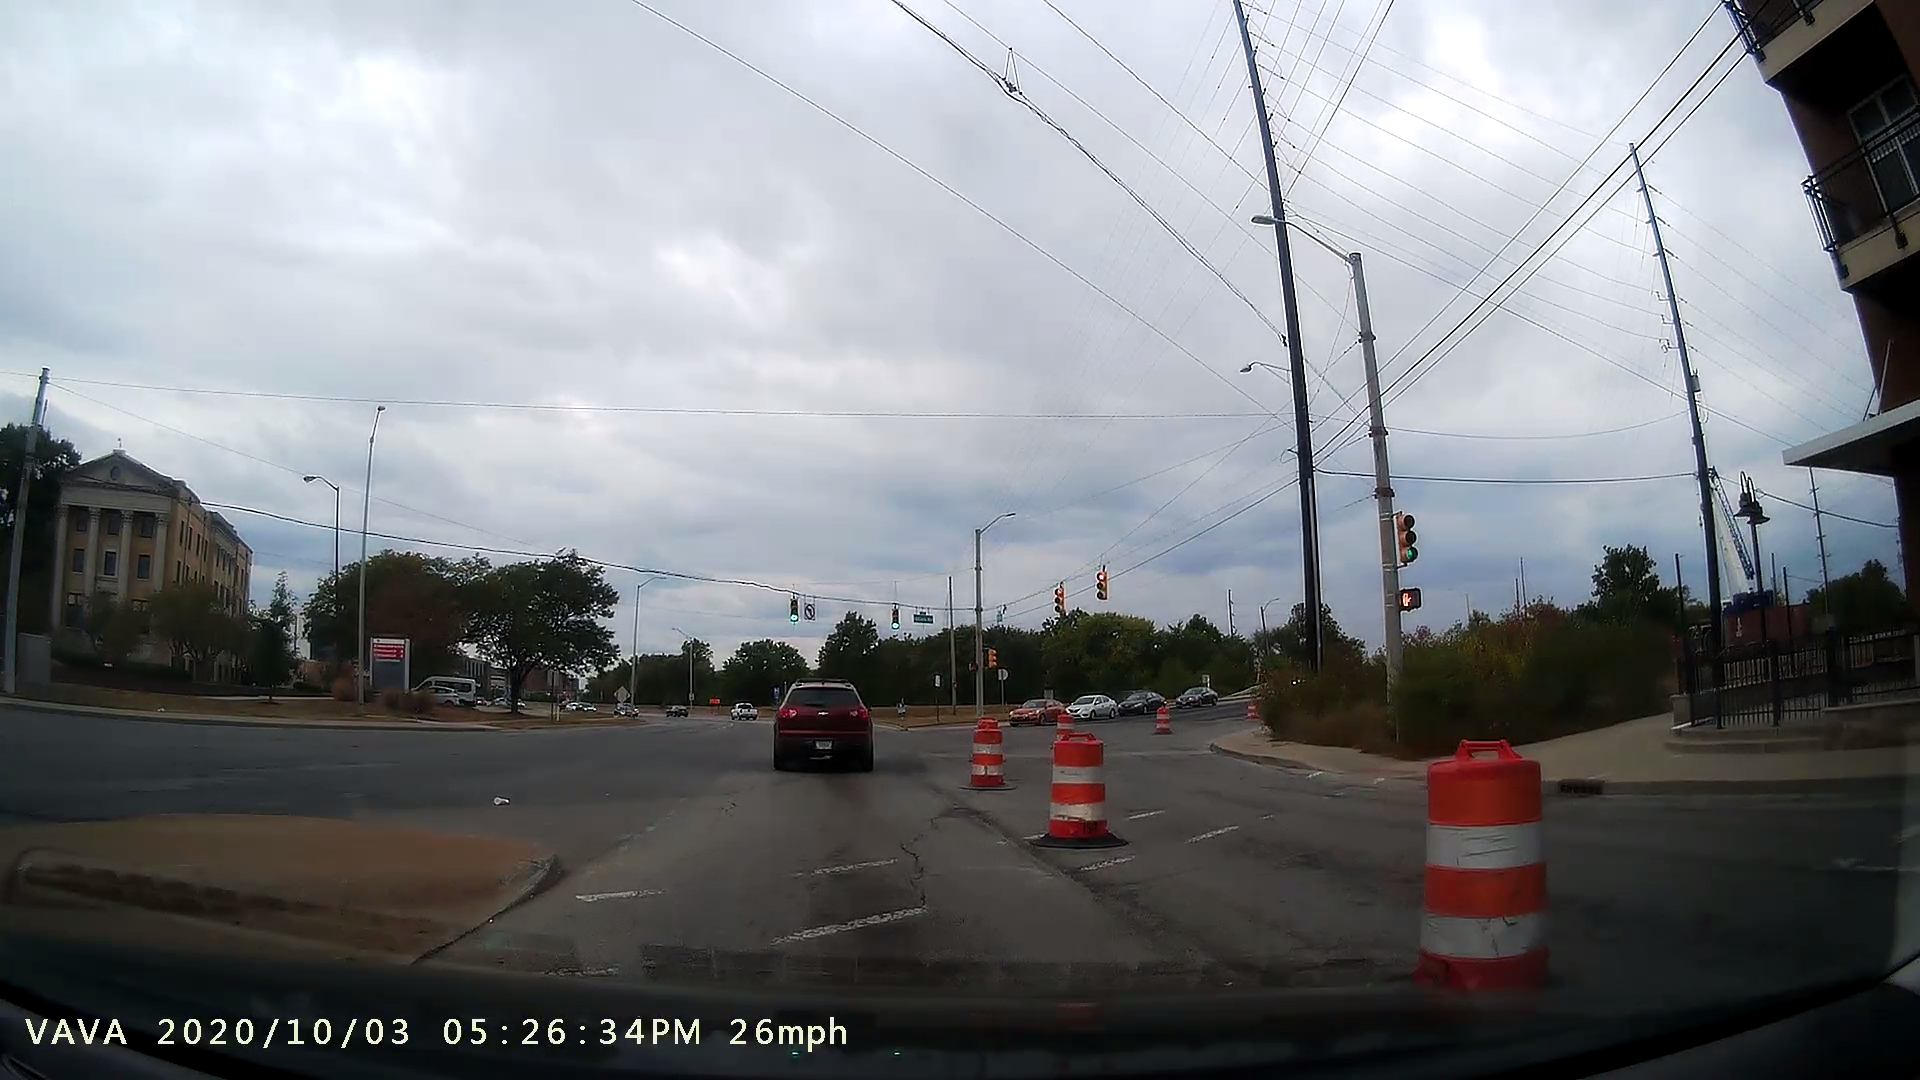const_barrel: (1019, 735, 1126, 855), (957, 720, 1017, 798)
